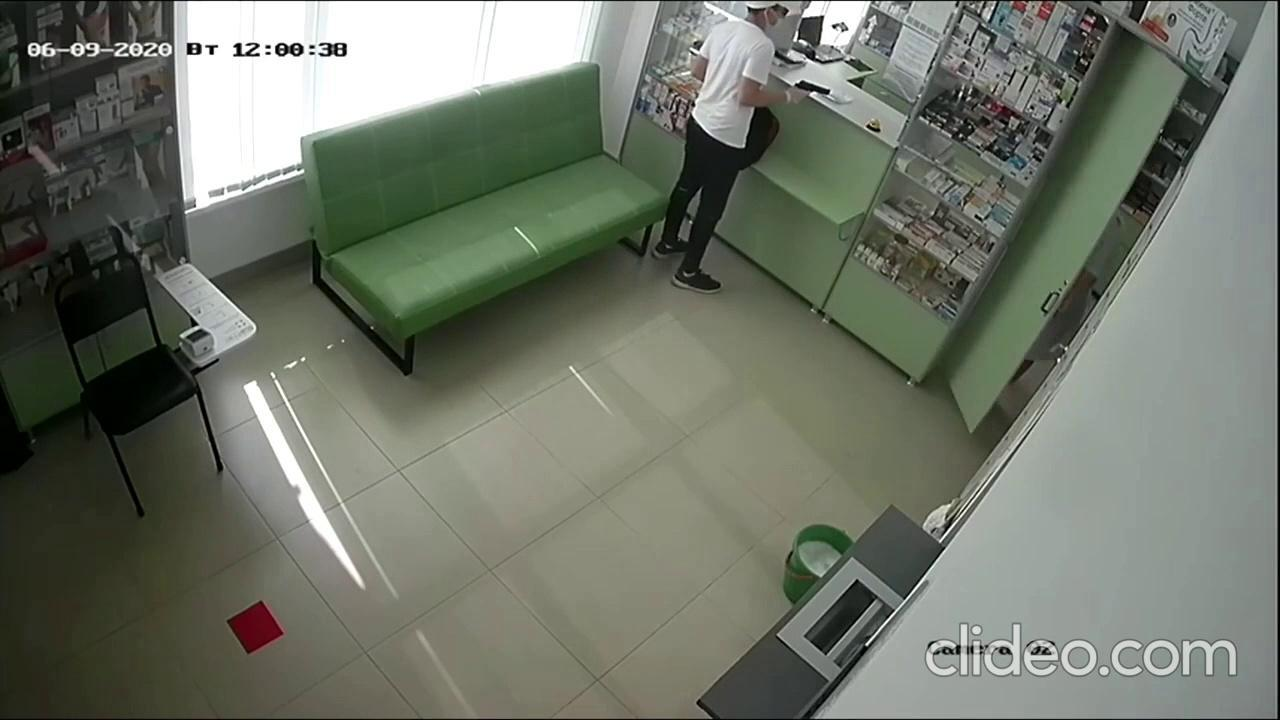person: (649, 0, 812, 296)
pistol: (793, 77, 832, 96)
